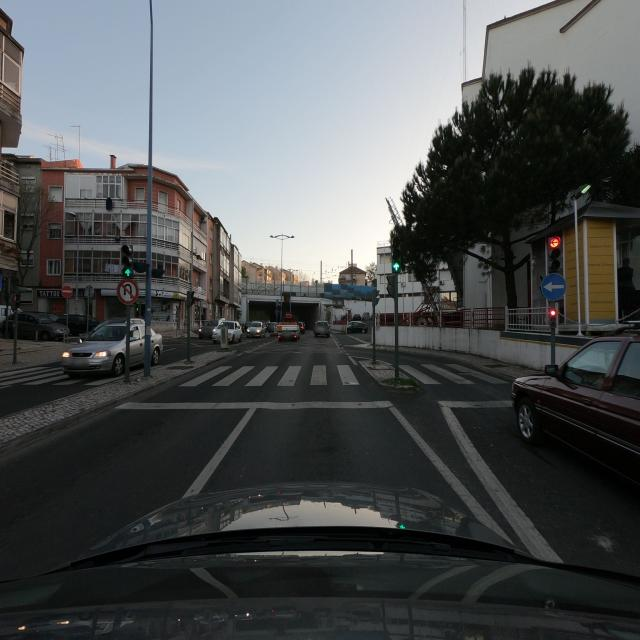car: (510, 328, 640, 528), (61, 318, 163, 379), (0, 311, 66, 342), (198, 319, 222, 340), (277, 322, 300, 343), (222, 320, 242, 343), (346, 315, 368, 334), (314, 319, 331, 338), (248, 321, 265, 339), (264, 322, 274, 335), (297, 320, 306, 334)
